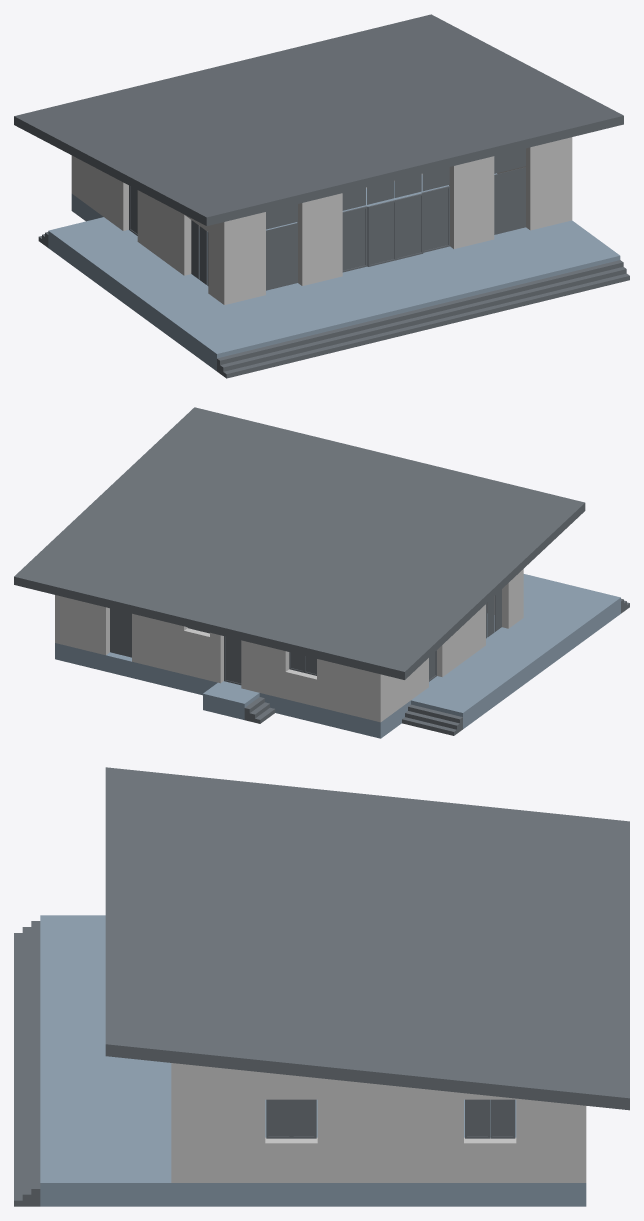
The model's file is casa_estudio.glb.
3 views of the same model, one above another, from view 1: azimuth 30°, elevation 25°; view 2: azimuth 150°, elevation 25°; view 3: azimuth 270°, elevation 25° (orthographic). The views are drawn at different scales.
Parts seen in each view (by area): view 1: Roof001.002, Slab.004, External Wall.002, Stairs002.002, Window002, Window, Window001, Window003, Window008, Window004, Window005; view 2: Roof001.002, External Wall.002, Slab.004, Back Slab.003, Stairs001.001, Window011, Door, Stairs.001, Window014; view 3: Roof001.002, Slab.004, External Wall.002, Stairs002.002, Window009, Window010.
Boxes of the visible parts, bbox=[...] form: Roof001.002: bbox=[14, 14, 623, 225]; Slab.004: bbox=[48, 173, 620, 371]; External Wall.002: bbox=[71, 137, 572, 304]; Stairs002.002: bbox=[217, 260, 629, 378]; Window002: bbox=[342, 186, 449, 272]; Window: bbox=[266, 223, 297, 290]; Window001: bbox=[494, 167, 525, 234]; Window003: bbox=[266, 204, 297, 229]; Window008: bbox=[494, 148, 525, 173]; Window004: bbox=[422, 167, 449, 191]; Window005: bbox=[394, 174, 421, 197]; Roof001.002: bbox=[14, 407, 585, 679]; External Wall.002: bbox=[55, 569, 523, 722]; Slab.004: bbox=[55, 574, 620, 738]; Back Slab.003: bbox=[203, 682, 259, 719]; Stairs001.001: bbox=[402, 704, 462, 735]; Window011: bbox=[110, 608, 131, 657]; Door: bbox=[224, 636, 241, 685]; Stairs.001: bbox=[244, 697, 275, 723]; Window014: bbox=[289, 652, 316, 675]; Roof001.002: bbox=[105, 767, 629, 1110]; Slab.004: bbox=[40, 915, 586, 1206]; External Wall.002: bbox=[171, 1063, 586, 1182]; Stairs002.002: bbox=[14, 921, 40, 1206]; Window009: bbox=[266, 1099, 316, 1138]; Window010: bbox=[465, 1099, 515, 1138].
Size of the model in its own units: 15.5 by 4.57 by 14.1.
